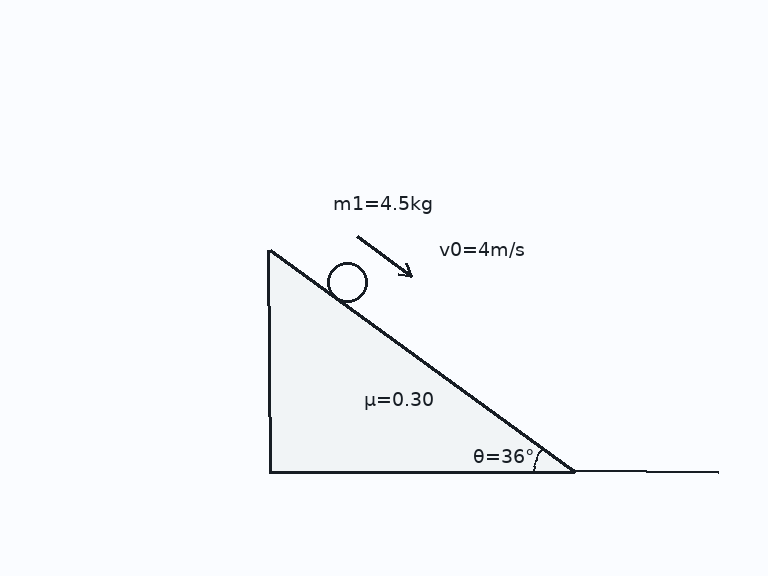ball: (325, 260, 369, 304)
ramp: (268, 249, 576, 474)
